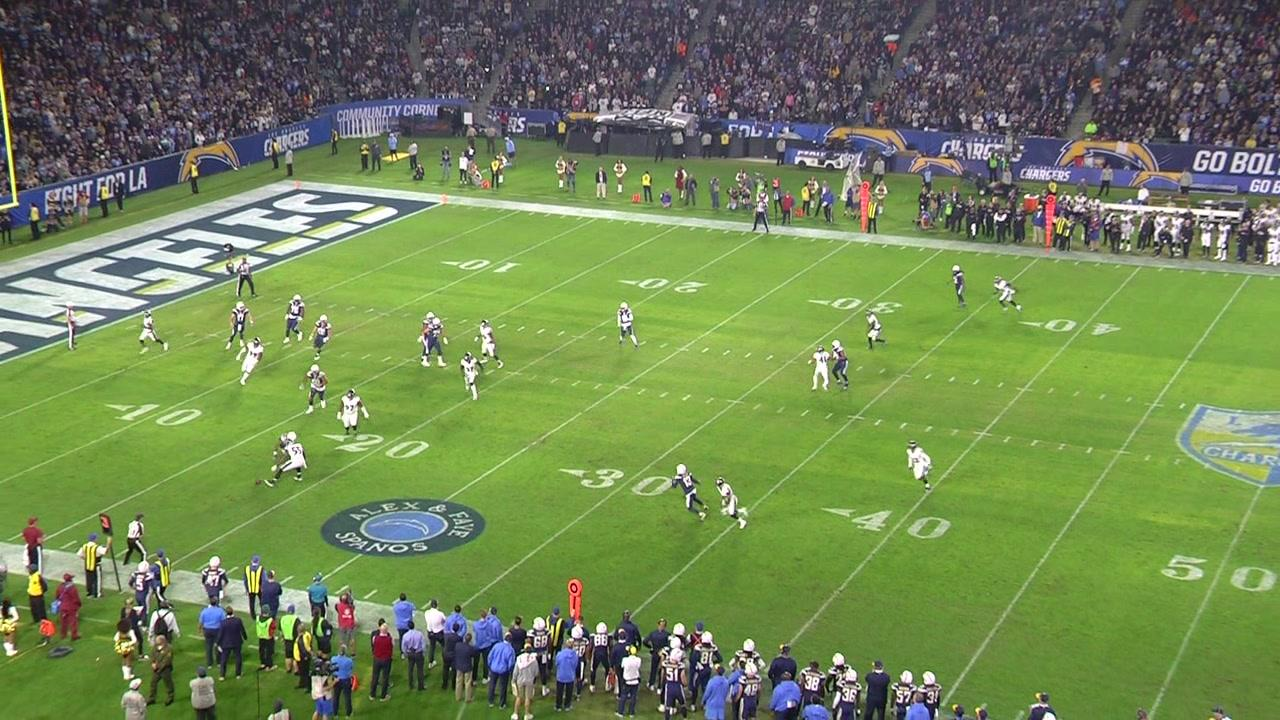defense: (263, 438, 311, 489), (713, 474, 751, 530), (334, 387, 370, 439), (235, 337, 271, 386), (138, 308, 171, 356), (905, 440, 934, 494), (455, 351, 485, 402), (475, 319, 505, 369), (806, 344, 837, 392), (991, 276, 1022, 315), (863, 308, 889, 352)
oline: (417, 317, 449, 370), (297, 364, 329, 416), (282, 293, 306, 345), (309, 311, 333, 362), (418, 309, 438, 366)
qb: (223, 299, 254, 352)
ref: (120, 512, 149, 569), (234, 255, 259, 301), (63, 300, 82, 354), (751, 196, 769, 240)
skill: (668, 462, 710, 525), (268, 429, 308, 473), (615, 301, 640, 357), (827, 339, 853, 392), (945, 263, 969, 309)
